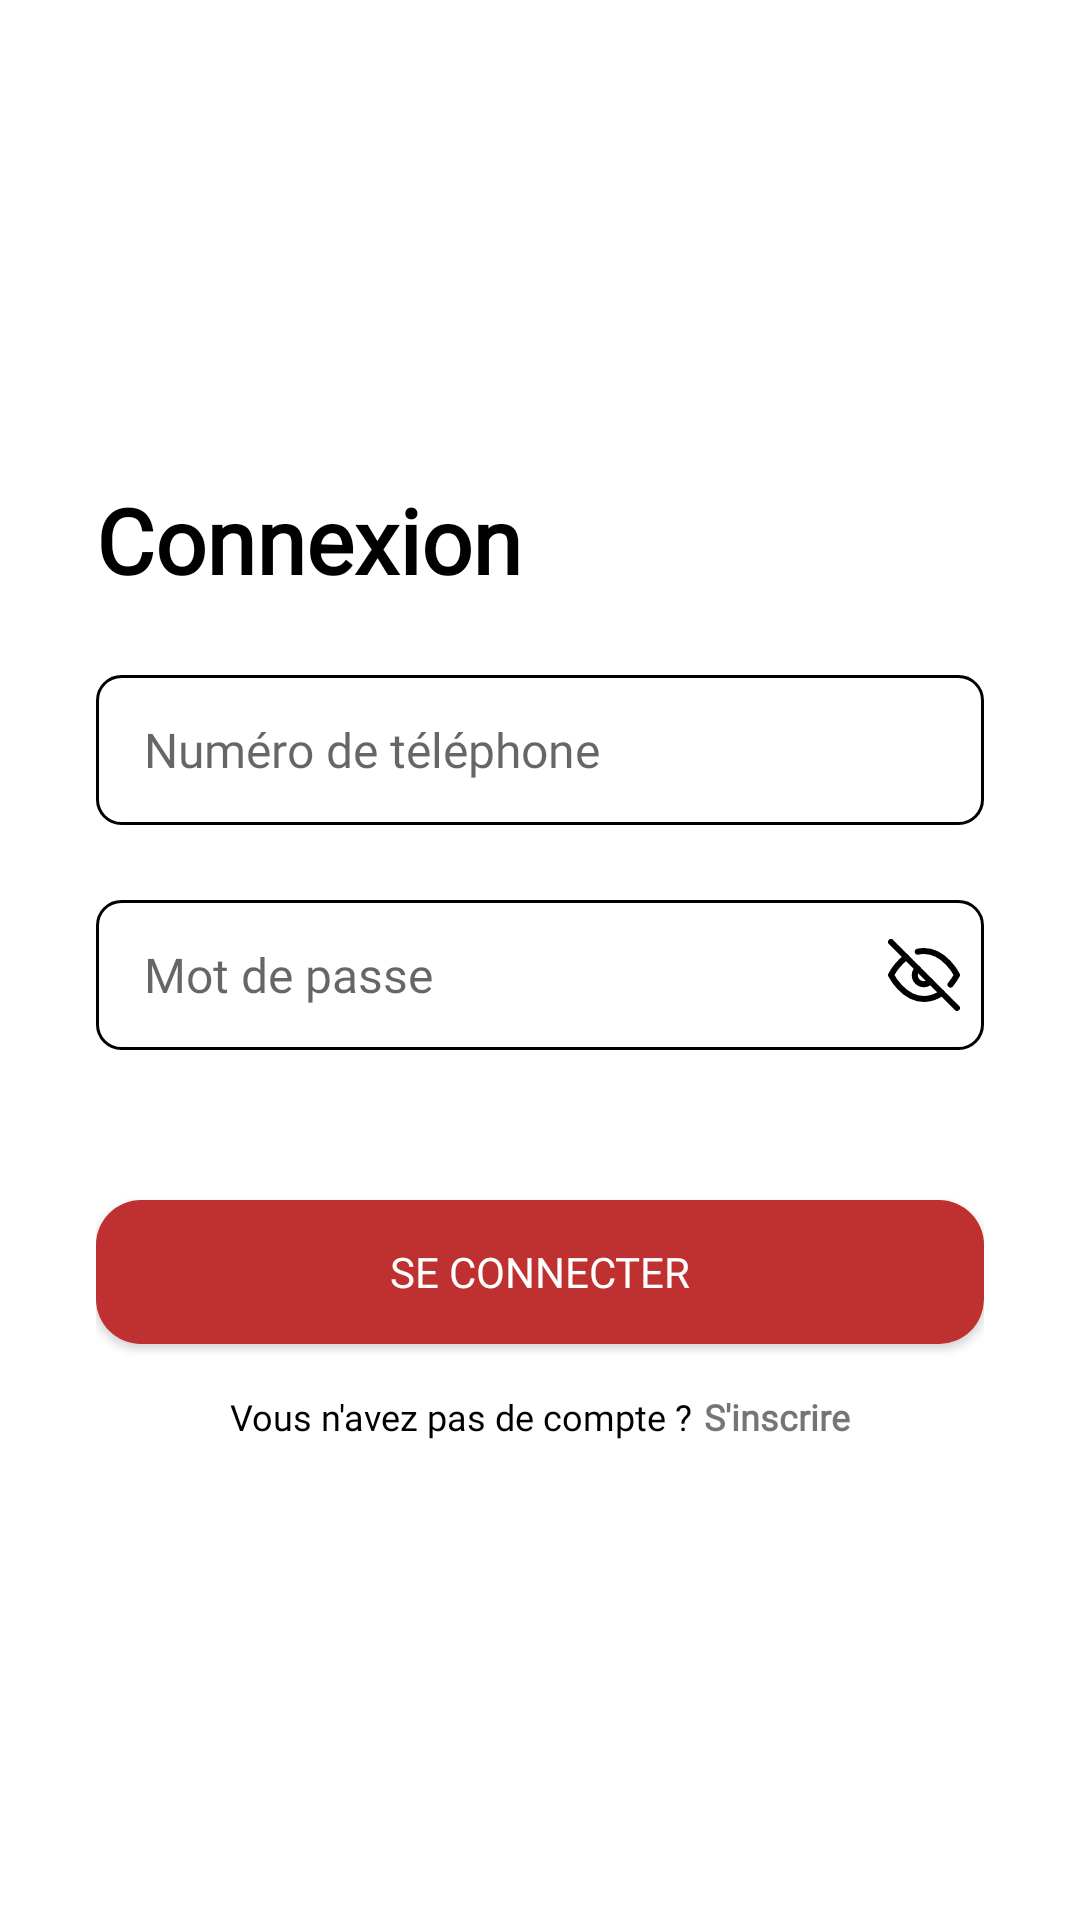

Where to tap for icons on this 1080w x 1920h app screen, as point (x, y):
Password visibility: point (924, 975)
